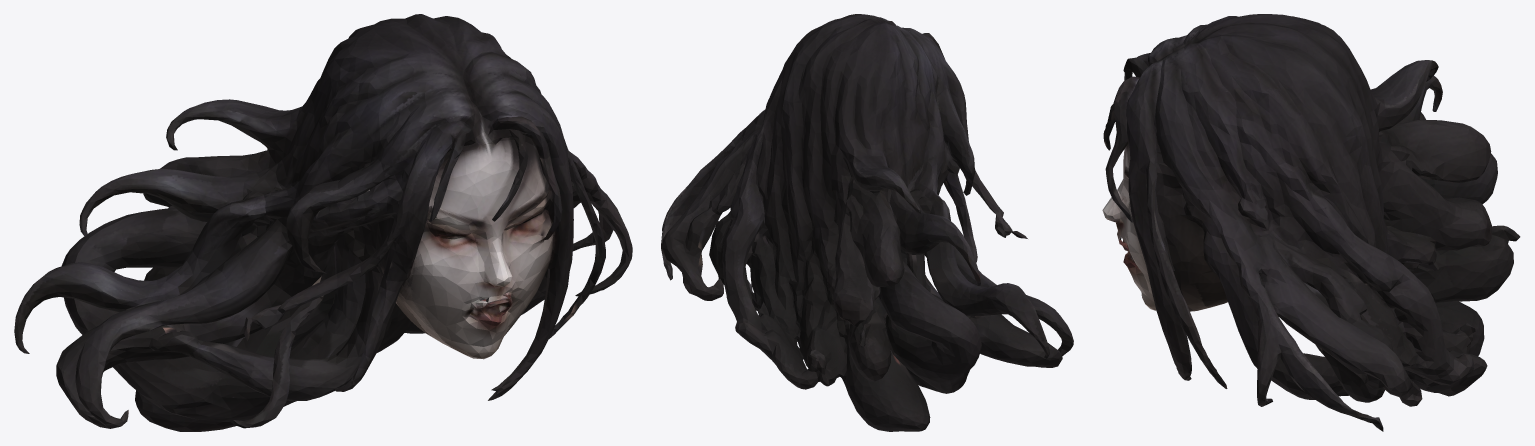
Rendered from foe_nukekubi.glb.
3 renders of one model, left to right at view 1: azimuth 30°, elevation 25°; view 2: azimuth 150°, elevation 25°; view 3: azimuth 270°, elevation 25°, orthographic. The views are drawn at different scales.
Visible parts, largest first — view 1: temp_mesh.ply; view 2: temp_mesh.ply; view 3: temp_mesh.ply.
Part boxes in pixels (x1,y1,x2,y2): temp_mesh.ply: (14, 14, 632, 431); temp_mesh.ply: (661, 14, 1073, 431); temp_mesh.ply: (1102, 14, 1520, 431).
Bounding box in the file's own units: 1.97 × 1.48 × 1.34.
Materials: 1 (1 with a texture image).
